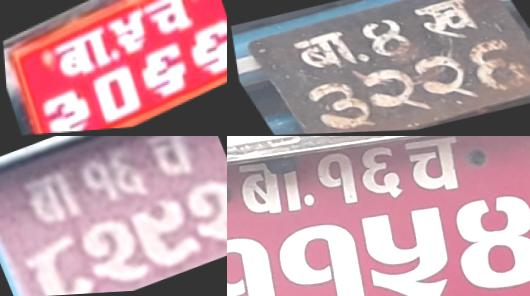0: (87, 61, 146, 130)
1: (260, 209, 379, 296), (302, 143, 370, 227), (227, 224, 292, 296), (72, 151, 124, 217)
2: (73, 213, 152, 295), (348, 63, 434, 127), (400, 49, 482, 112), (176, 173, 227, 259)
3: (293, 73, 380, 134), (34, 83, 93, 134)
4: (429, 176, 530, 296), (350, 14, 421, 63)
5: (341, 189, 467, 296), (104, 7, 150, 63)
6: (343, 136, 412, 216), (454, 36, 530, 100), (133, 39, 192, 109), (104, 141, 156, 207), (184, 19, 227, 84)
8: (12, 229, 97, 296)
9: (126, 193, 205, 277)
ba: (227, 142, 314, 234), (14, 162, 90, 236), (47, 24, 114, 91), (286, 29, 363, 78)
cha: (391, 136, 476, 210), (140, 136, 201, 191), (139, 0, 195, 47)
kha: (403, 0, 494, 49)
